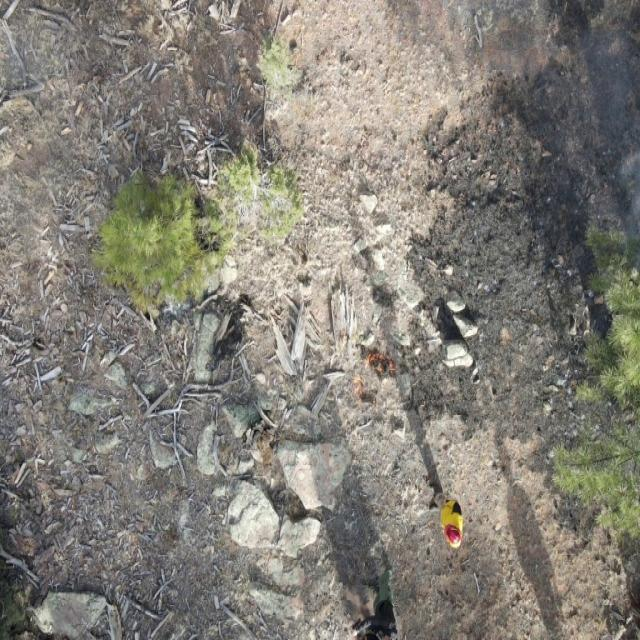fire: (358, 341, 399, 379), (350, 382, 376, 406)
smoke: (593, 42, 640, 246)
